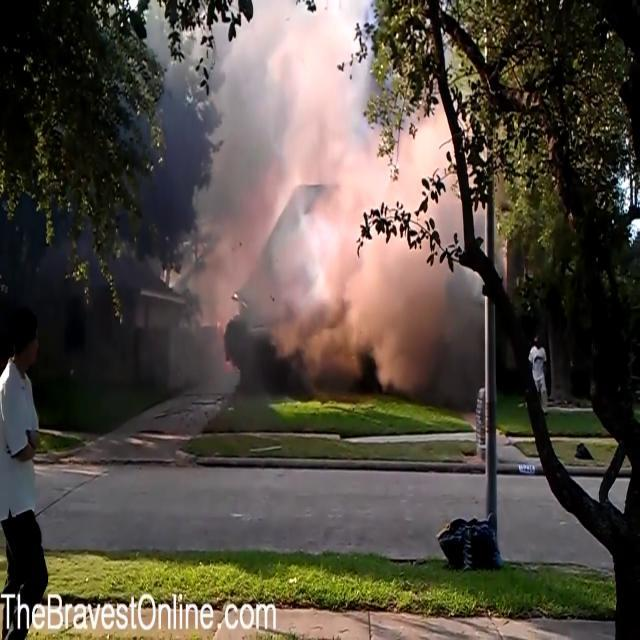Smoke: (142, 11, 418, 402), (362, 162, 489, 417)
